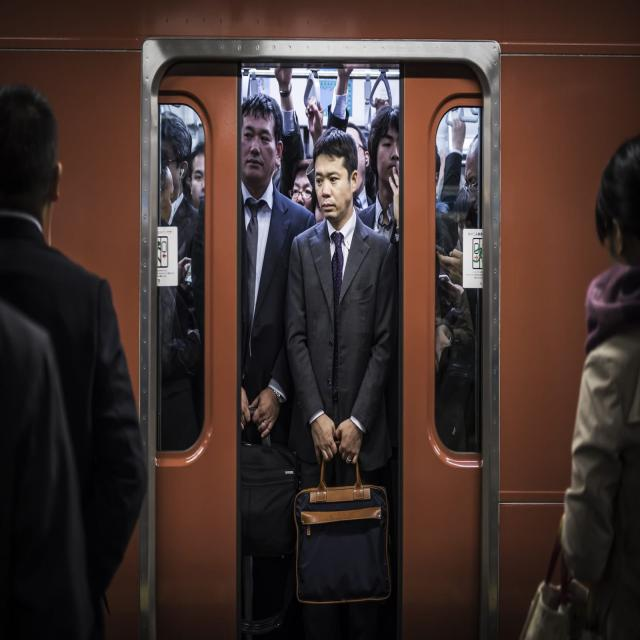body: (0, 80, 150, 615), (190, 90, 316, 640), (510, 130, 640, 640), (281, 123, 401, 640), (0, 301, 98, 639), (356, 104, 399, 614), (158, 106, 208, 455), (435, 114, 480, 452), (273, 64, 316, 214), (316, 68, 354, 140), (354, 124, 374, 212)
